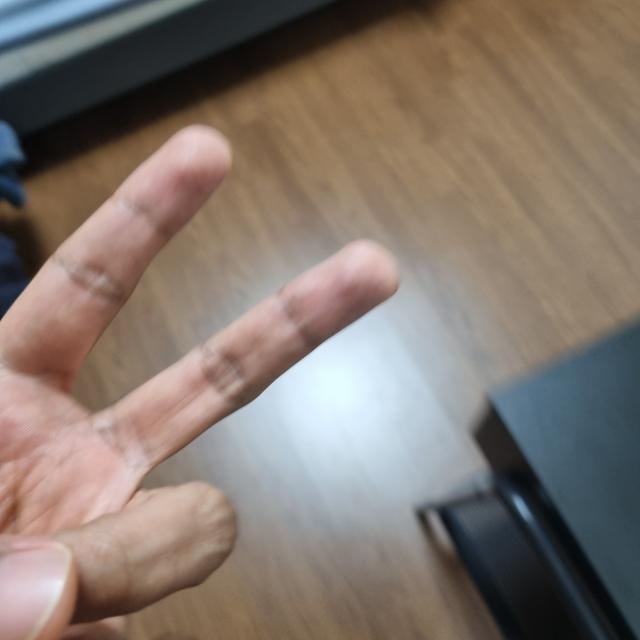Scissors: (0, 129, 393, 639)
